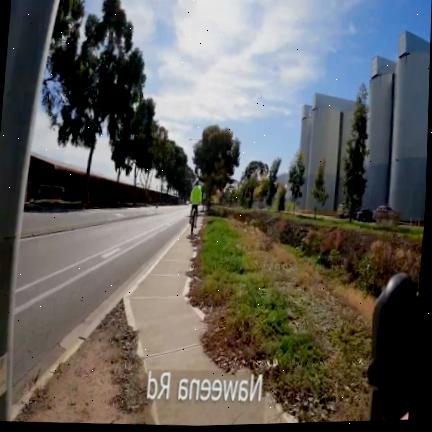Bike_Lane: (12, 217, 188, 388)
